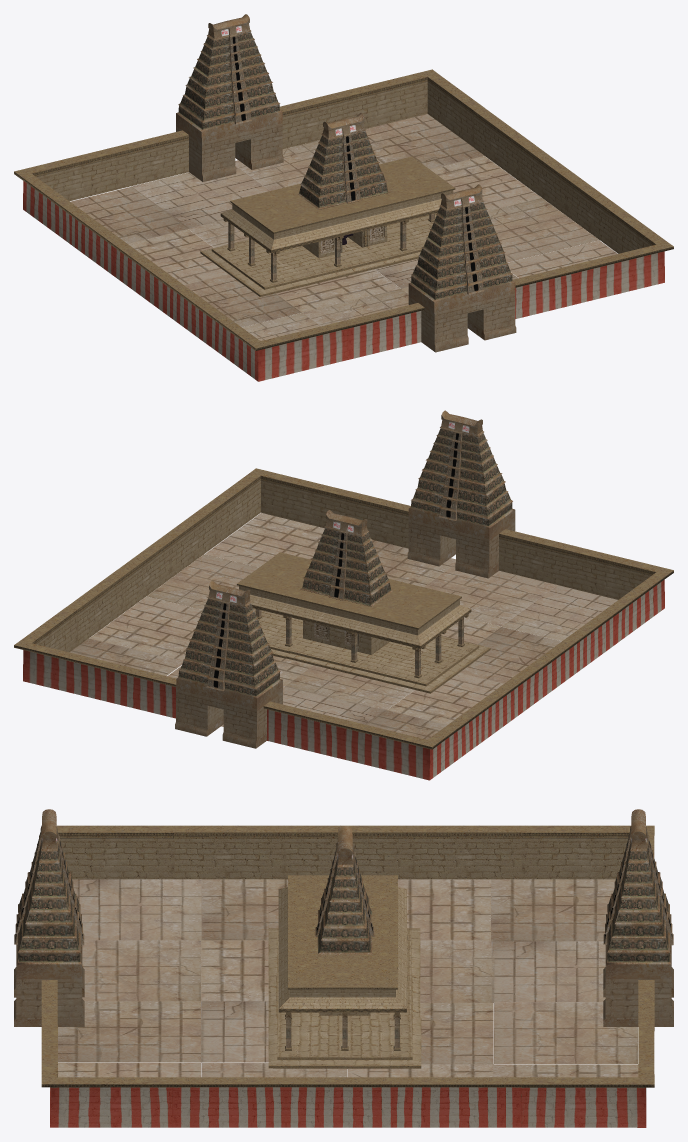
Rendered from temple.2.glb.
3 views of the same model, one above another, from view 1: azimuth 30°, elevation 25°; view 2: azimuth 150°, elevation 25°; view 3: azimuth 270°, elevation 25° (orthographic). The views are drawn at different scales.
Parts seen in each view (by area): view 1: Temple; view 2: Temple; view 3: Temple.
Part boxes in pixels (x1,y1,x2,y2): Temple: (14, 14, 673, 381); Temple: (14, 410, 673, 780); Temple: (14, 809, 673, 1127).
Size of the model in its own units: 28.8 by 9.43 by 31.05.
14 materials, 14 textured.
